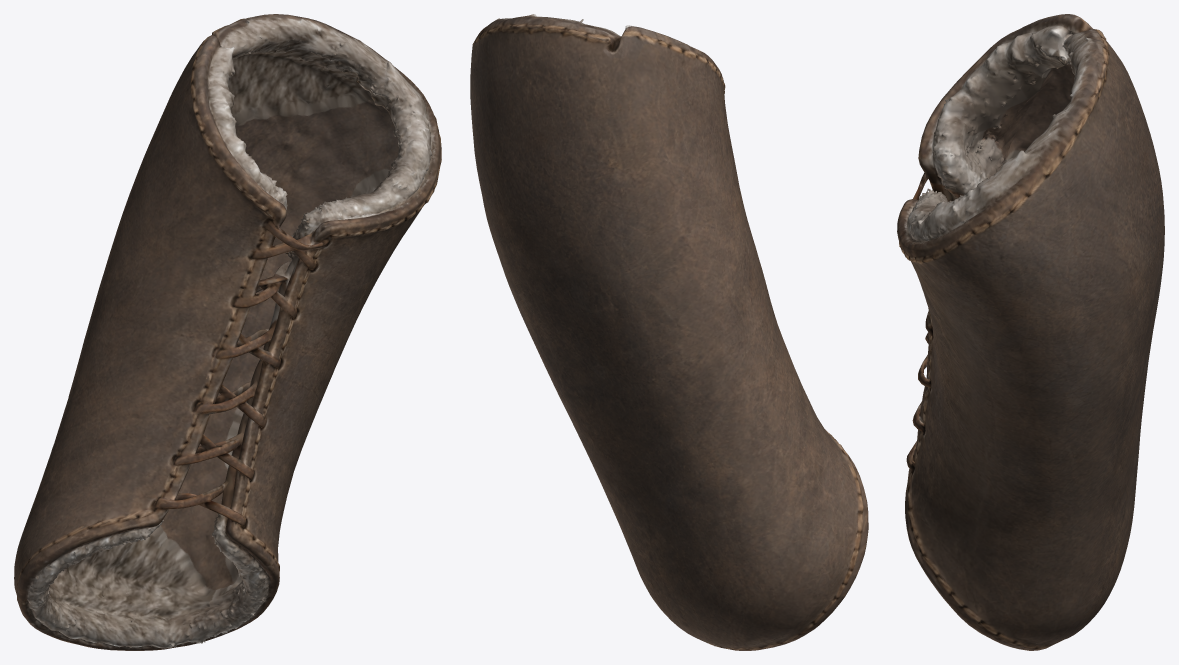
Rendered from wolfhide_bracers.glb.
3 views of the same model, side by side, from view 1: azimuth 30°, elevation 25°; view 2: azimuth 150°, elevation 25°; view 3: azimuth 270°, elevation 25° (orthographic). The views are drawn at different scales.
Parts seen in each view (by area): view 1: geometry_0; view 2: geometry_0; view 3: geometry_0.
Boxes of the visible parts, x1,y1,x2,y2 form: geometry_0: (14, 14, 441, 650); geometry_0: (470, 14, 868, 650); geometry_0: (897, 14, 1164, 650).
Size of the model in its own units: 0.6861 by 0.9891 by 0.3623.
1 material, 1 textured.
